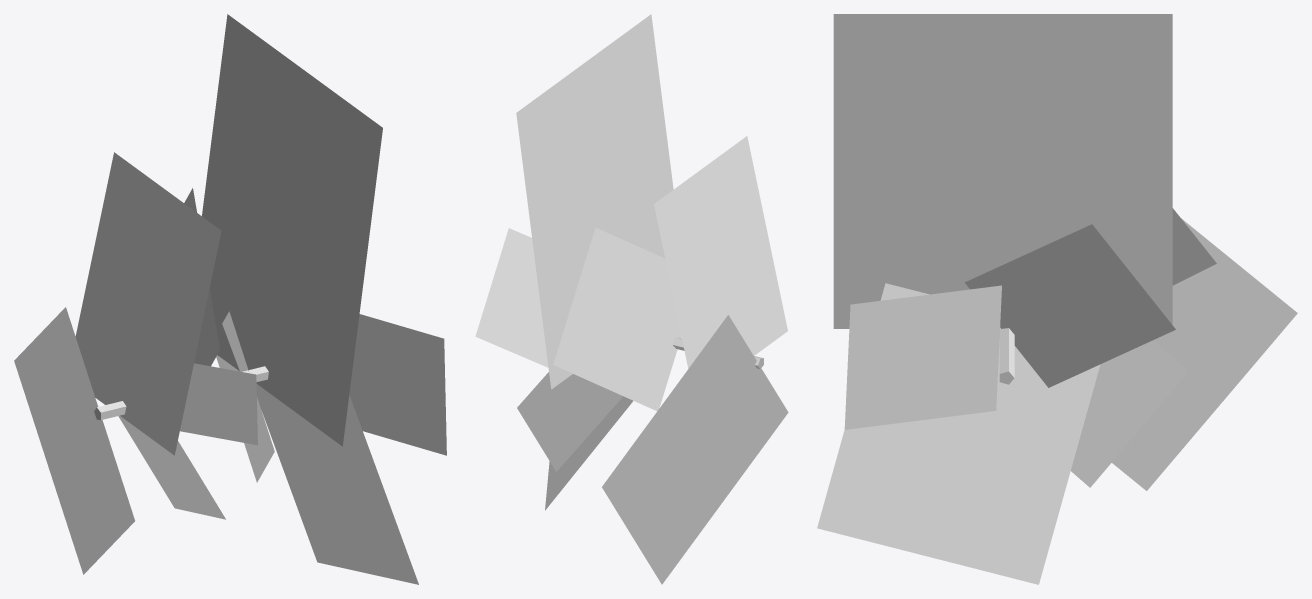
Rendered from VineSplineMesh_Textured_3.fbx.
3 renders of one model, left to right at view 1: azimuth 30°, elevation 25°; view 2: azimuth 150°, elevation 25°; view 3: azimuth 270°, elevation 25°, orthographic. The views are drawn at different scales.
Visible parts, largest first — view 1: Plane.009; view 2: Plane.009; view 3: Plane.009.
Part boxes in pixels (<box>): Plane.009: <box>14,14,446,584</box>; Plane.009: <box>475,14,788,584</box>; Plane.009: <box>817,14,1297,584</box>.
Bounding box in the file's own units: 70 × 119 × 92.82.
Materials: 2 (1 with a texture image).
